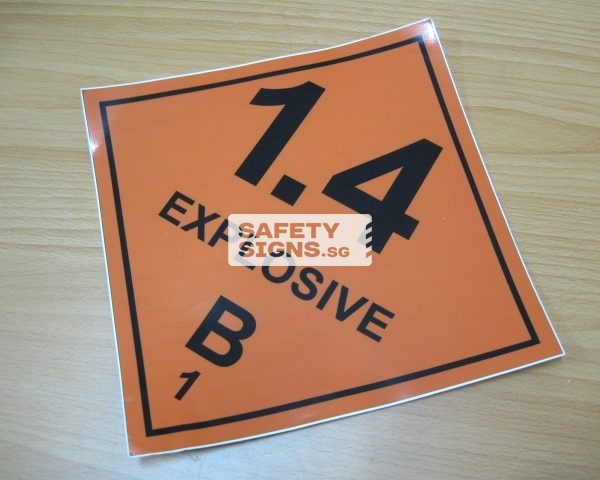Explosive: (79, 31, 555, 444)
